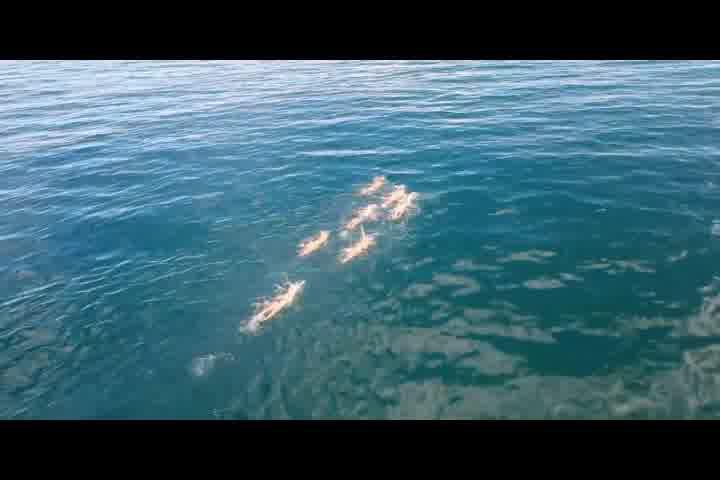swimmer: (252, 278, 305, 325), (344, 223, 378, 266), (302, 230, 328, 258)
